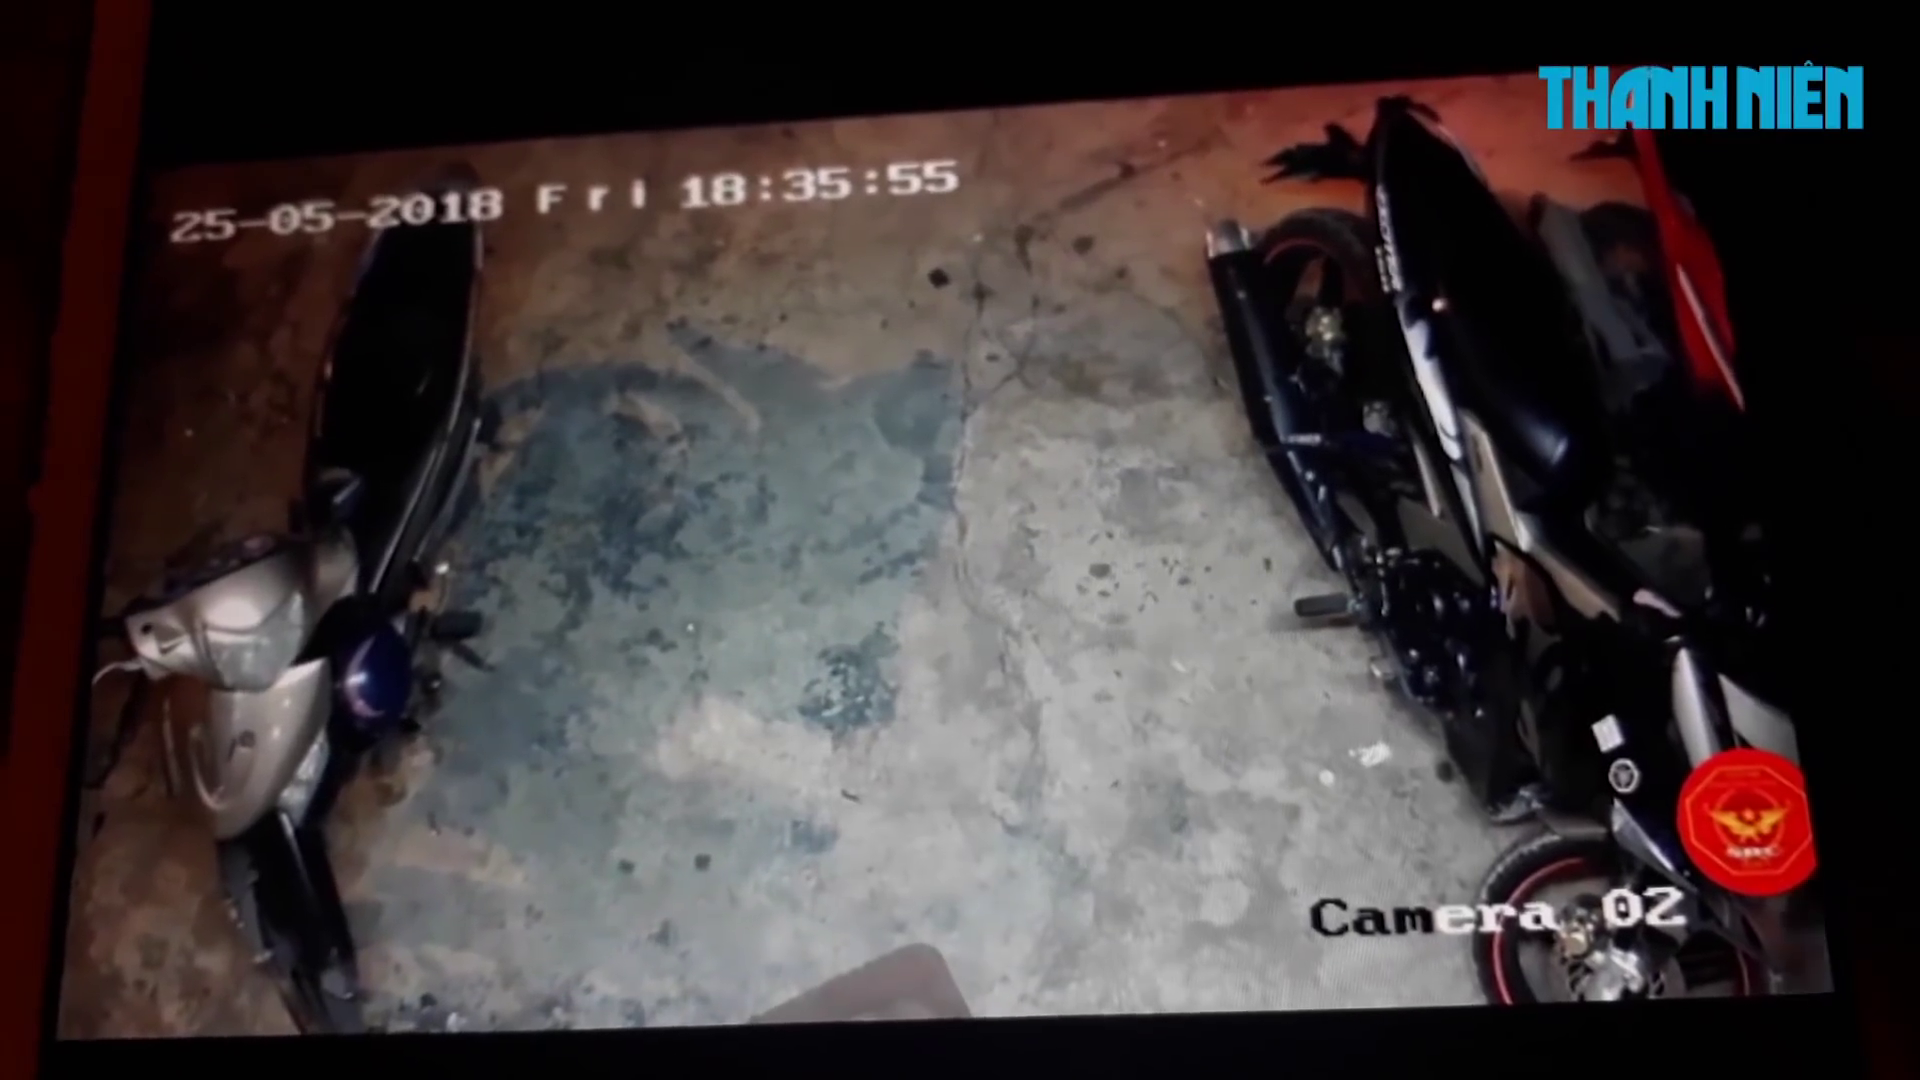Motorcycle: (1201, 94, 1841, 1013)
